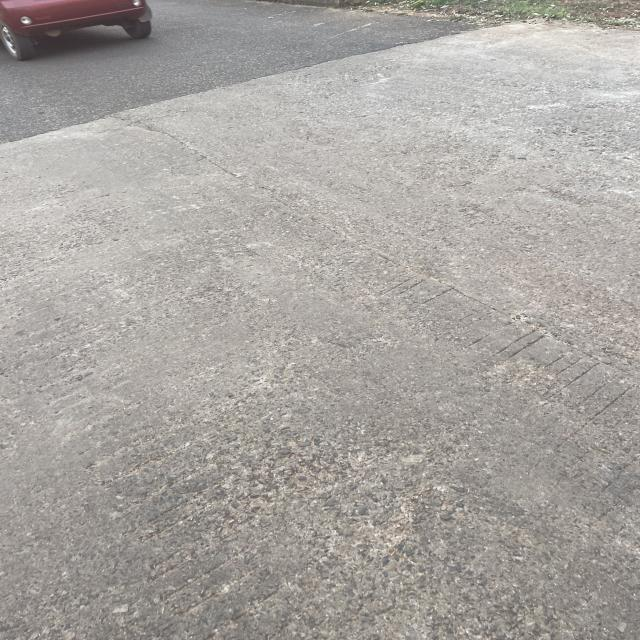D43: (16, 28, 529, 178)
